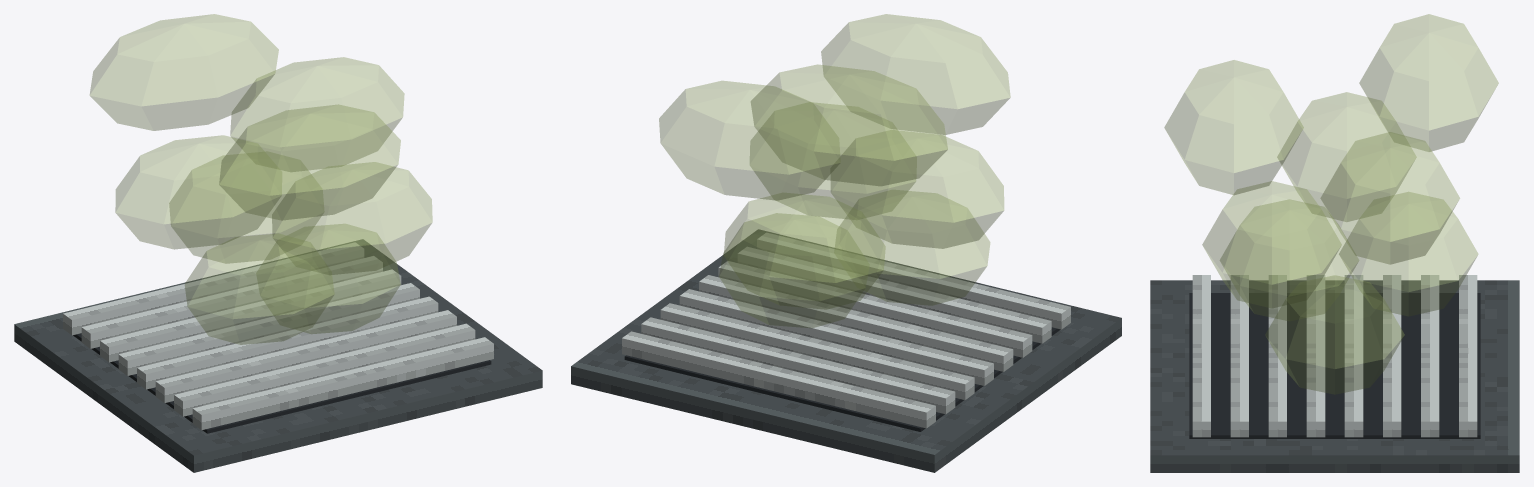
The model's file is f_vent_toxic_belch.glb.
3 renders of one model, left to right at view 1: azimuth 30°, elevation 25°; view 2: azimuth 150°, elevation 25°; view 3: azimuth 270°, elevation 25°, orthographic. The views are drawn at different scales.
Visible parts, largest first — view 1: block_soft-edged-vent-plume (×8), block_metal-grate-slat (×8), block_floor-vent-frame, block_dark-duct-opening; view 2: block_soft-edged-vent-plume (×8), block_metal-grate-slat (×8), block_floor-vent-frame, block_dark-duct-opening; view 3: block_soft-edged-vent-plume (×8), block_floor-vent-frame, block_metal-grate-slat (×8), block_dark-duct-opening.
Part boxes in pixels (box(x1,y1,x2,y2)): block_soft-edged-vent-plume (×8): box(90, 14, 432, 344); block_metal-grate-slat (×8): box(63, 242, 493, 430); block_floor-vent-frame: box(14, 239, 542, 472); block_dark-duct-opening: box(73, 333, 491, 433); block_soft-edged-vent-plume (×8): box(659, 14, 1010, 327); block_metal-grate-slat (×8): box(622, 233, 1070, 428); block_floor-vent-frame: box(571, 229, 1121, 472); block_dark-duct-opening: box(624, 327, 1060, 431); block_soft-edged-vent-plume (×8): box(1164, 14, 1498, 394); block_floor-vent-frame: box(1150, 280, 1519, 472); block_metal-grate-slat (×8): box(1192, 275, 1477, 437); block_dark-duct-opening: box(1189, 293, 1480, 438).
Size of the model in its own units: 0.74 by 0.647 by 0.66.
Materials: 2 (2 with a texture image).
